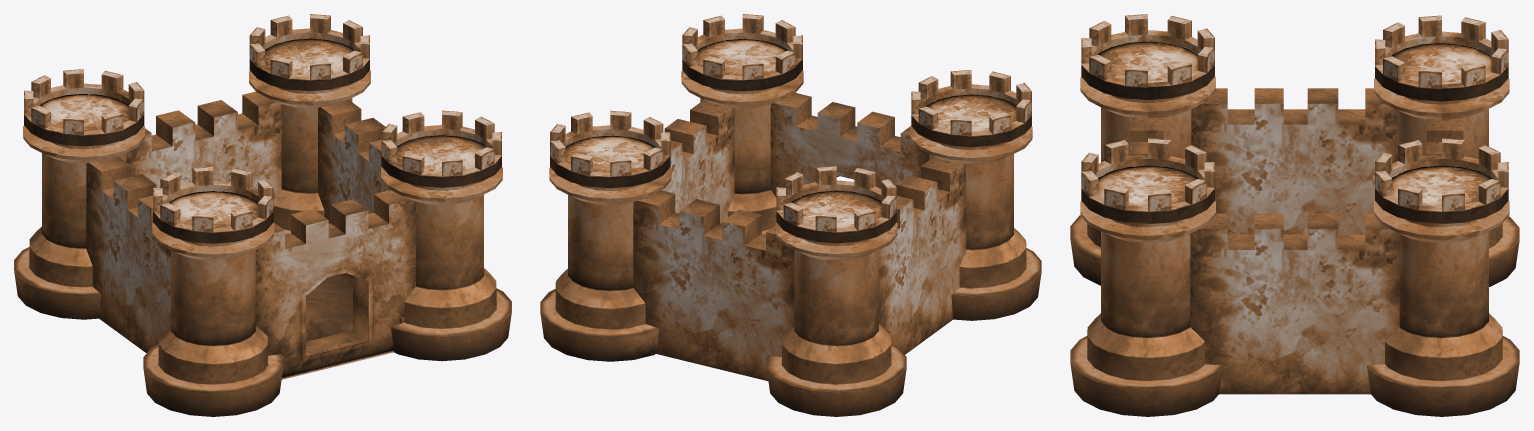
Rendered from landmark-castle.glb.
3 renders of one model, left to right at view 1: azimuth 30°, elevation 25°; view 2: azimuth 150°, elevation 25°; view 3: azimuth 270°, elevation 25°, orthographic. The views are drawn at different scales.
Parts seen in each view (by area): view 1: P_tkn_Castle; view 2: P_tkn_Castle; view 3: P_tkn_Castle.
Boxes of the visible parts, x1,y1,x2,y2 form: P_tkn_Castle: (14, 14, 511, 416); P_tkn_Castle: (540, 14, 1041, 416); P_tkn_Castle: (1070, 14, 1519, 416).
Bounding box in the file's own units: 0.3317 × 0.1769 × 0.3299.
Materials: 1 (1 with a texture image).
